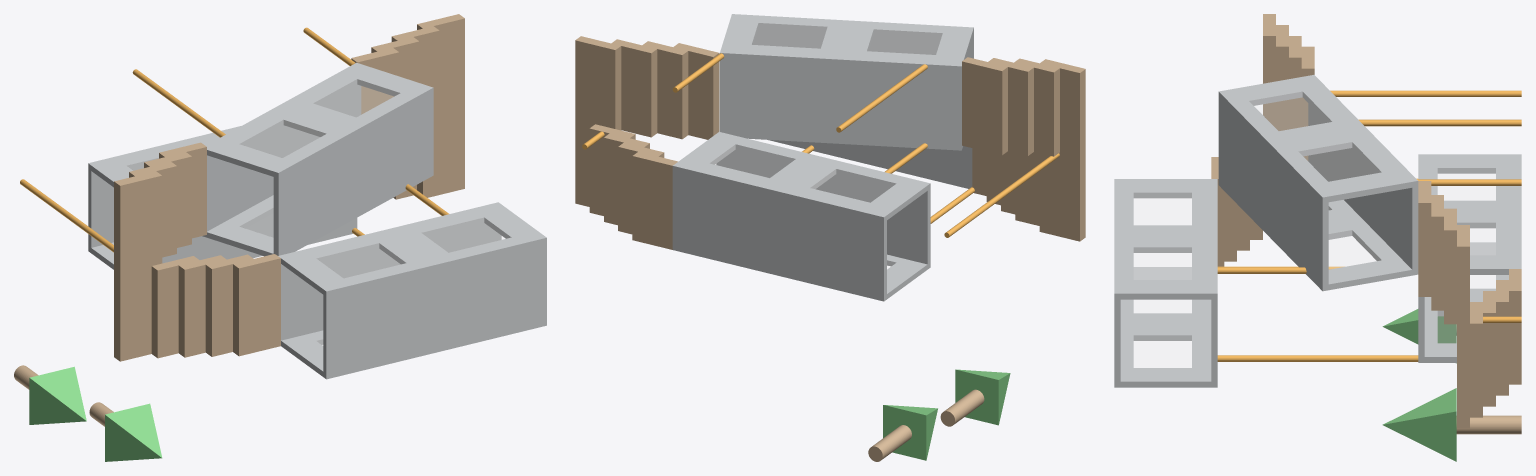
Rendered from lingkong.glb.
The picture shows the model from 3 angles, left to right: view 1: azimuth 30°, elevation 25°; view 2: azimuth 150°, elevation 25°; view 3: azimuth 270°, elevation 25°; orthographic projection. The views are drawn at different scales.
Visible parts, largest first — view 1: group_14_10988977, group_19_10988977, group_3_11107152, group_2_11107152, group_24_10988977, group_1_4634441, group_28_4634441, group_16_-1023739142, group_15_-1023739142, group_18_-1023739142, group_17_-1023739142, group_10_16089887 (+1 smaller); view 2: group_24_10988977, group_19_10988977, group_2_11107152, group_3_11107152, group_14_10988977, group_1_4634441, group_28_4634441, group_17_-1023739142, group_18_-1023739142, group_22_-1023739142, group_23_-1023739142, group_10_16089887 (+3 smaller); view 3: group_19_10988977, group_14_10988977, group_2_11107152, group_24_10988977, group_3_11107152, group_28_4634441, group_12_-1023739142, group_16_-1023739142, group_17_-1023739142, group_18_-1023739142, group_15_-1023739142, group_23_-1023739142 (+11 smaller).
Part boxes in pixels (x1=…): group_14_10988977: x1=278, y1=202, x2=546, y2=379; group_19_10988977: x1=202, y1=62, x2=433, y2=256; group_3_11107152: x1=114, y1=142, x2=280, y2=361; group_2_11107152: x1=351, y1=14, x2=464, y2=199; group_24_10988977: x1=88, y1=126, x2=357, y2=269; group_1_4634441: x1=29, y1=366, x2=86, y2=424; group_28_4634441: x1=105, y1=403, x2=162, y2=461; group_16_-1023739142: x1=422, y1=218, x2=510, y2=252; group_15_-1023739142: x1=317, y1=243, x2=405, y2=277; group_18_-1023739142: x1=241, y1=120, x2=325, y2=157; group_17_-1023739142: x1=314, y1=79, x2=399, y2=116; group_10_16089887: x1=20, y1=179, x2=113, y2=252; group_24_10988977: x1=672, y1=132, x2=930, y2=301; group_19_10988977: x1=719, y1=14, x2=973, y2=150; group_2_11107152: x1=575, y1=36, x2=719, y2=249; group_3_11107152: x1=962, y1=57, x2=1085, y2=241; group_14_10988977: x1=768, y1=140, x2=972, y2=188; group_1_4634441: x1=955, y1=369, x2=1010, y2=425; group_28_4634441: x1=883, y1=405, x2=937, y2=460; group_17_-1023739142: x1=752, y1=23, x2=826, y2=48; group_18_-1023739142: x1=867, y1=29, x2=942, y2=54; group_22_-1023739142: x1=710, y1=145, x2=794, y2=177; group_23_-1023739142: x1=811, y1=169, x2=895, y2=202; group_10_16089887: x1=944, y1=153, x2=1059, y2=237; group_19_10988977: x1=1218, y1=75, x2=1418, y2=291; group_14_10988977: x1=1114, y1=179, x2=1217, y2=387; group_2_11107152: x1=1418, y1=181, x2=1521, y2=428; group_24_10988977: x1=1418, y1=154, x2=1521, y2=362; group_3_11107152: x1=1211, y1=14, x2=1314, y2=266; group_28_4634441: x1=1382, y1=388, x2=1456, y2=461; group_12_-1023739142: x1=1134, y1=335, x2=1191, y2=367; group_16_-1023739142: x1=1134, y1=247, x2=1191, y2=279; group_17_-1023739142: x1=1299, y1=142, x2=1380, y2=181; group_18_-1023739142: x1=1249, y1=92, x2=1331, y2=130; group_15_-1023739142: x1=1134, y1=193, x2=1191, y2=224; group_23_-1023739142: x1=1438, y1=168, x2=1495, y2=200.
Bounding box in the file's own units: 83 × 65.69 × 63.
